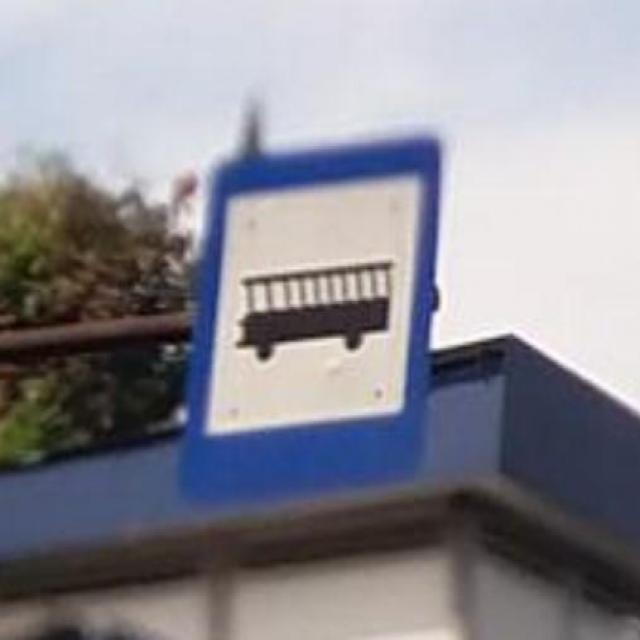traffic sign: (183, 140, 444, 499)
